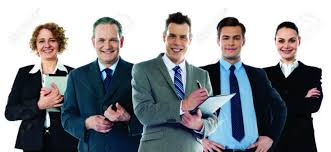person: (201, 12, 276, 100), (76, 14, 146, 95), (138, 7, 201, 94), (263, 16, 322, 102), (11, 23, 79, 87)
